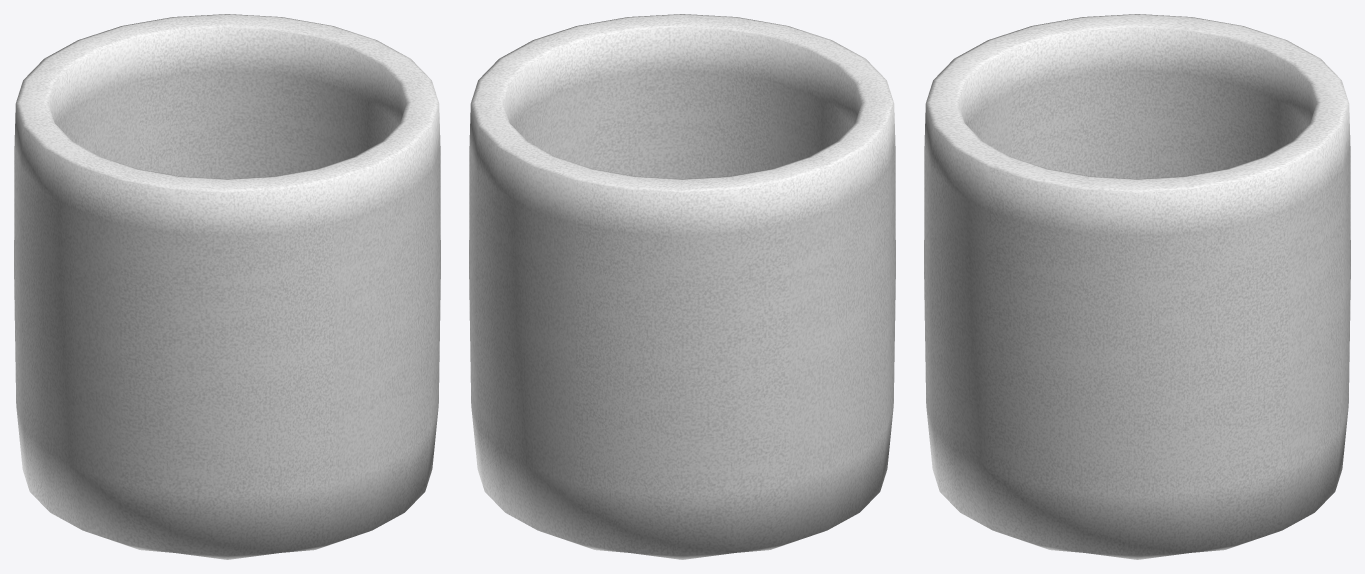
File: chemical_crucible.FBX
3 views of the same model, side by side, from view 1: azimuth 30°, elevation 25°; view 2: azimuth 150°, elevation 25°; view 3: azimuth 270°, elevation 25° (orthographic).
Visible parts, largest first — view 1: chemical_crucible; view 2: chemical_crucible; view 3: chemical_crucible.
Part boxes in pixels (left/top/right/bottom): chemical_crucible: left=14, top=14, right=440, bottom=559; chemical_crucible: left=469, top=14, right=895, bottom=559; chemical_crucible: left=924, top=14, right=1350, bottom=559.
Size of the model in its own units: 3.89 by 4 by 3.89.
Materials: 1 (1 with a texture image).
